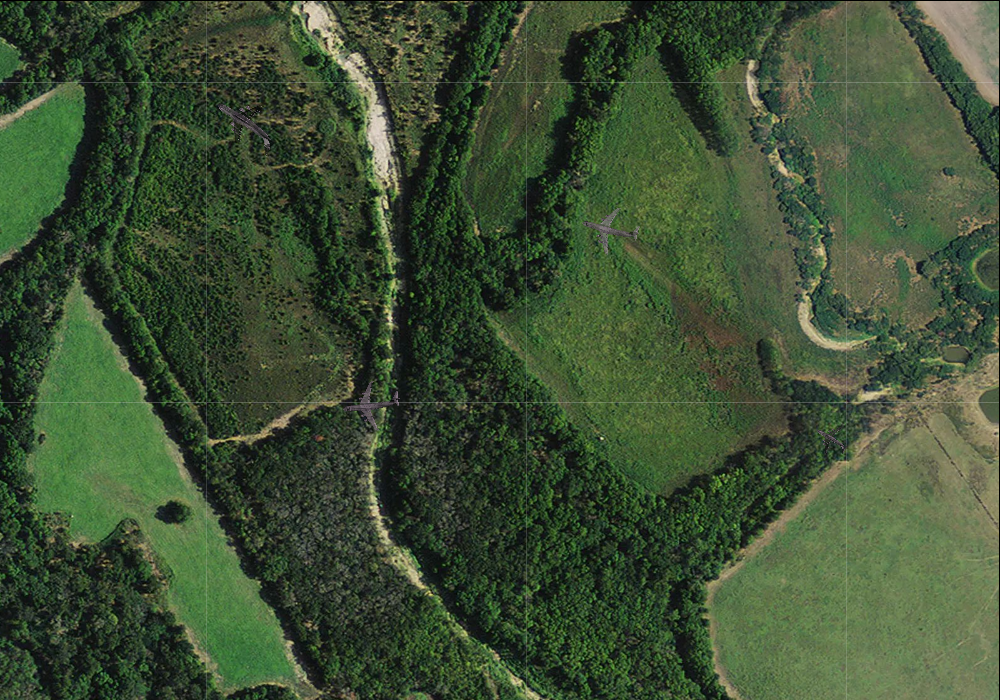plane: (198, 81, 291, 170), (575, 193, 646, 262), (339, 373, 403, 434), (807, 416, 855, 464)
